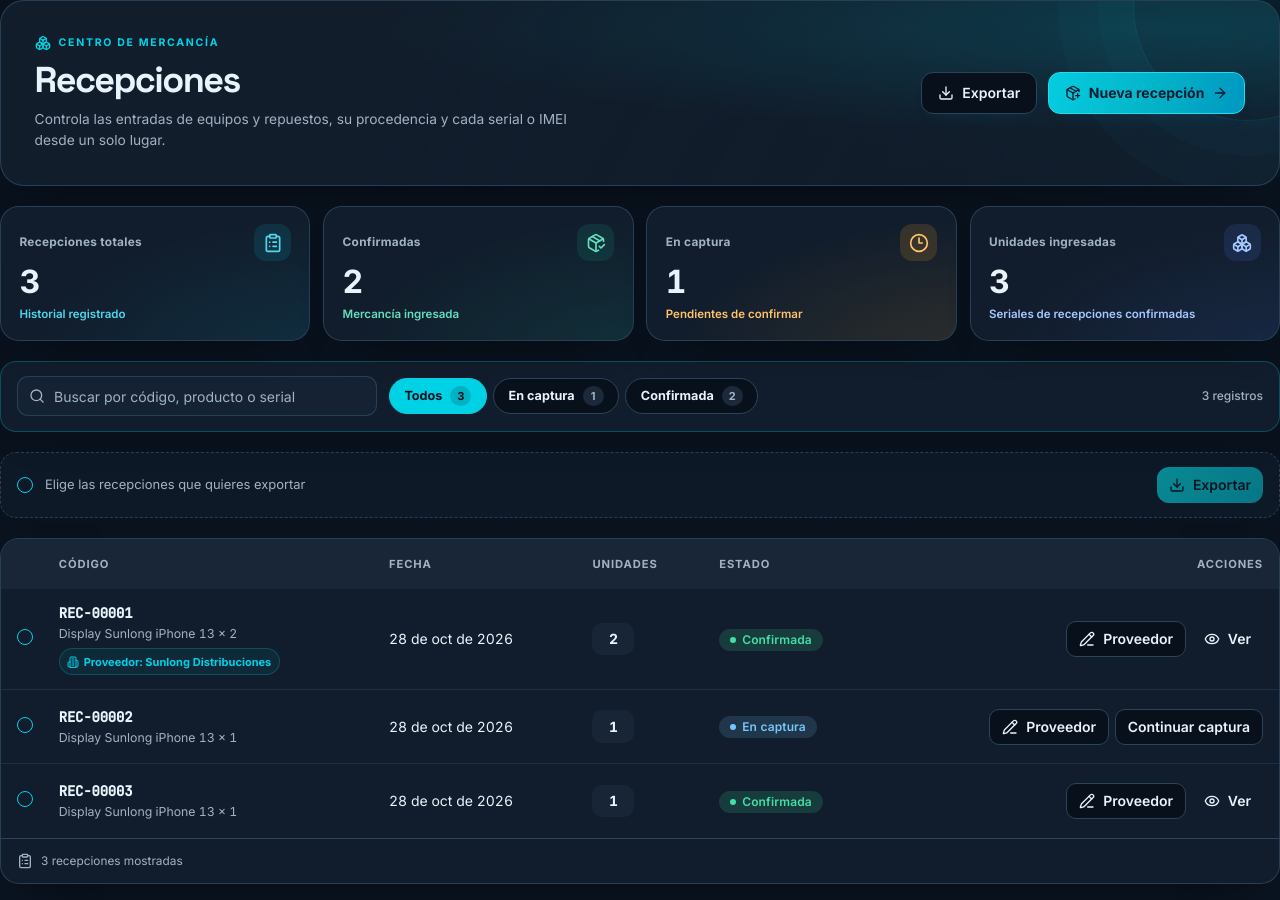
Test: Recepciones premium · datos y acciones preservadas › conserva filtros por estado y búsqueda por proveedor
Click the button "En captura 1". click: (556, 396)
box: [493, 378, 619, 414]
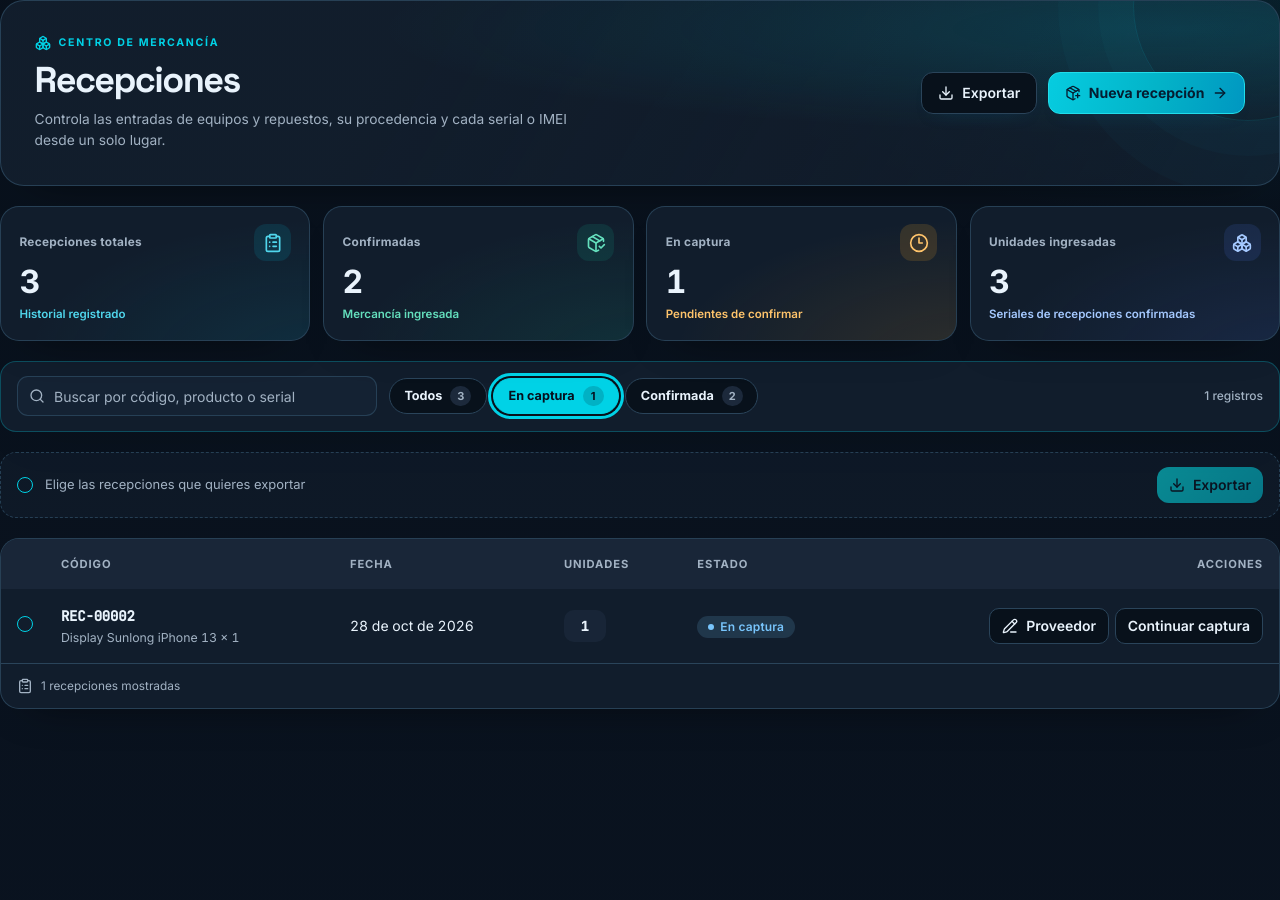
Check: the text "REC-00002" is shown, box [61, 607, 135, 625]
Check: the text "REC-00001" is gone
Click the button "Todos 3". click: (438, 396)
box: [389, 378, 487, 414]
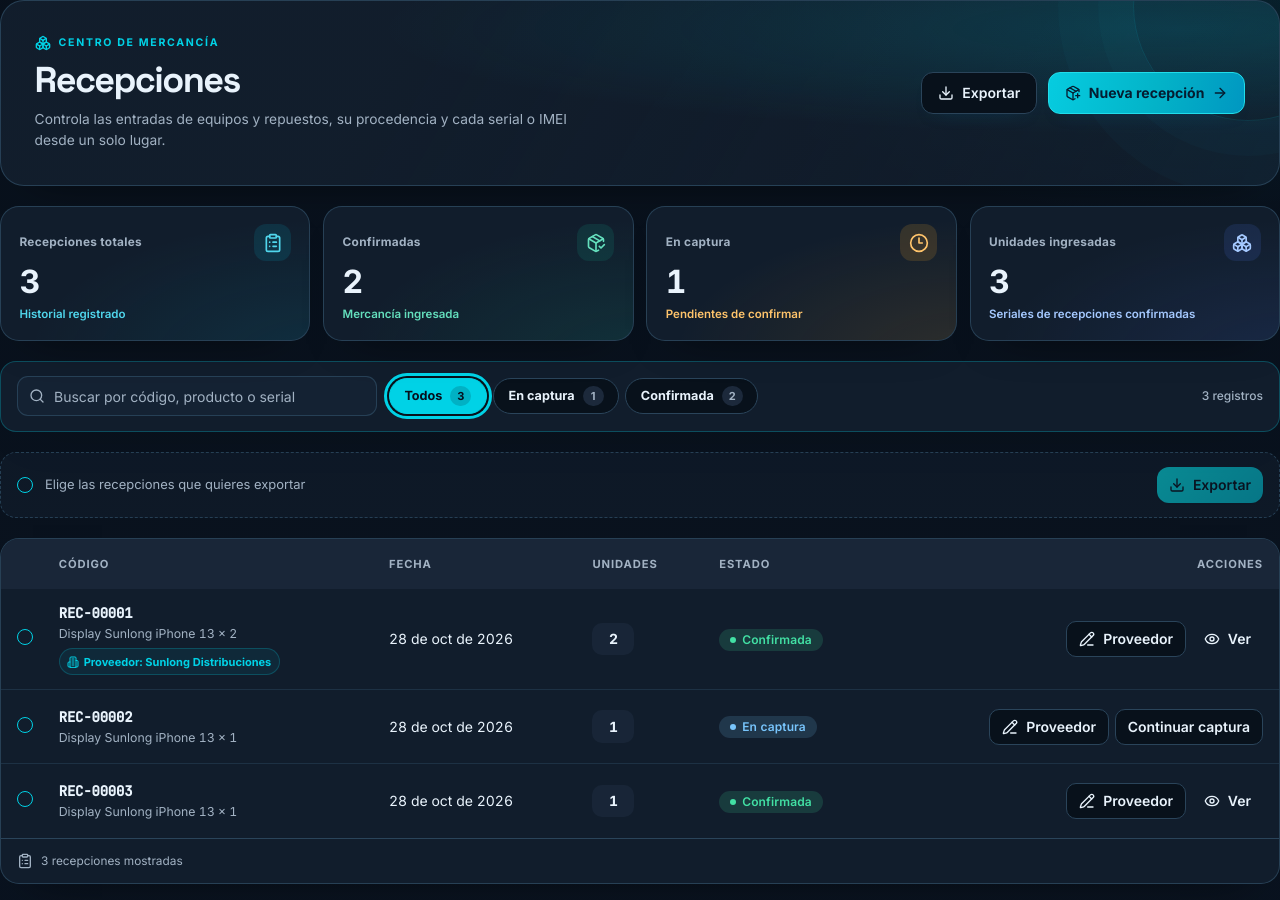
Type "Sunlong Distribuciones" into the field with placeholder "Buscar por código, producto o serial". click: (197, 396)
box: [17, 376, 377, 416]
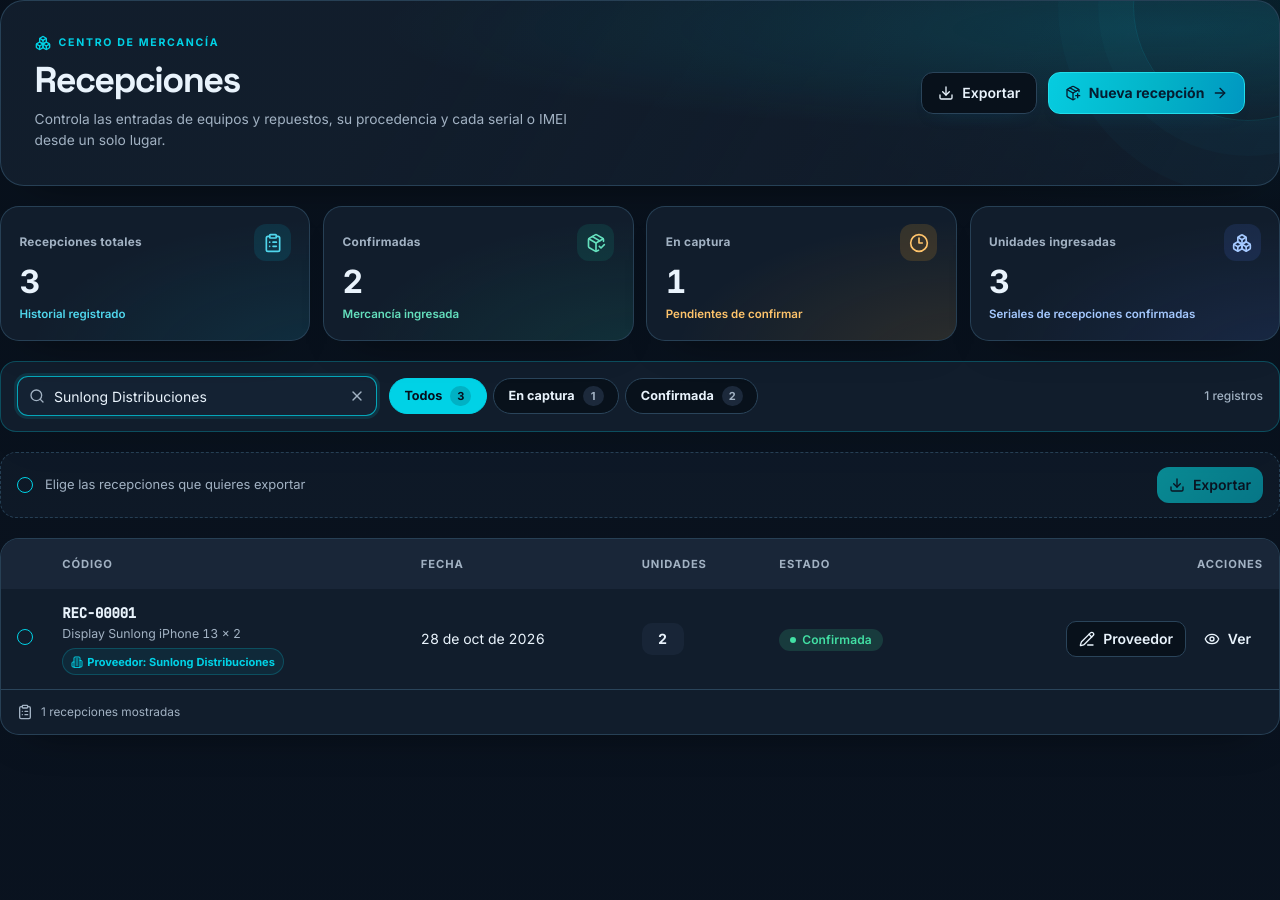
Check: the text "REC-00001" is shown, box [62, 604, 136, 622]
Check: the text "REC-00003" is gone
